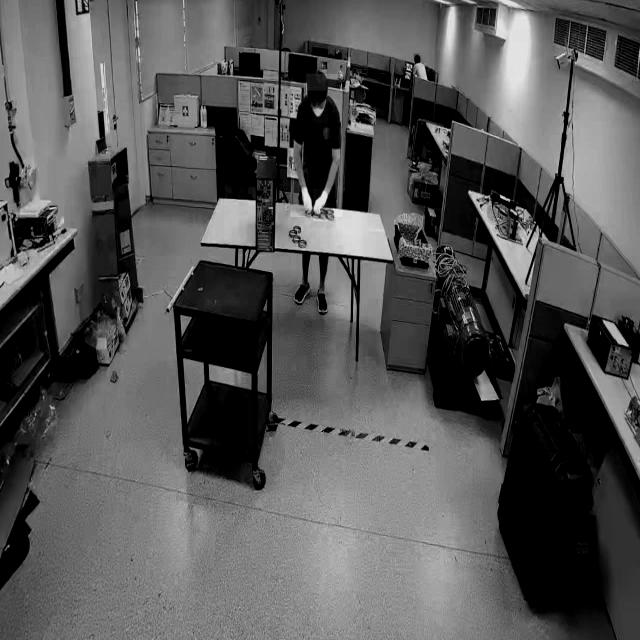face_mask: (312, 98, 328, 124)
hand_glove: (313, 188, 331, 222), (298, 182, 311, 215)
head_nohelmet: (306, 70, 327, 92), (414, 54, 420, 60)
person: (291, 74, 343, 218)
shoes: (313, 285, 329, 320), (293, 278, 313, 304)
